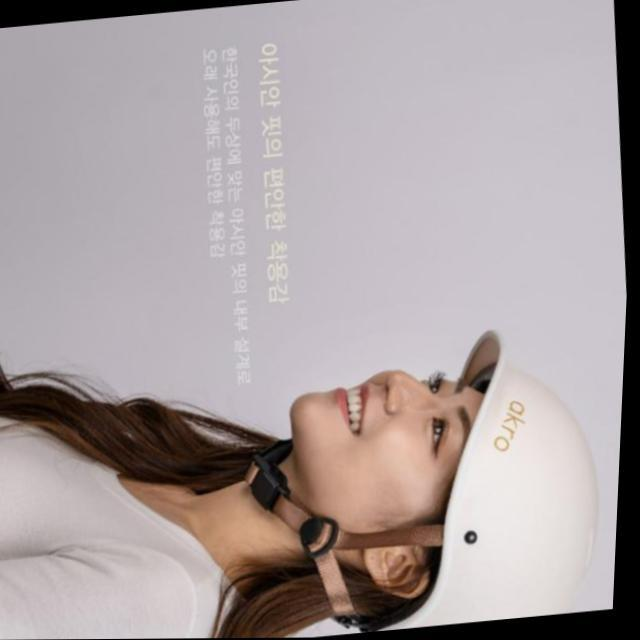with_helmet: (291, 333, 600, 621)
